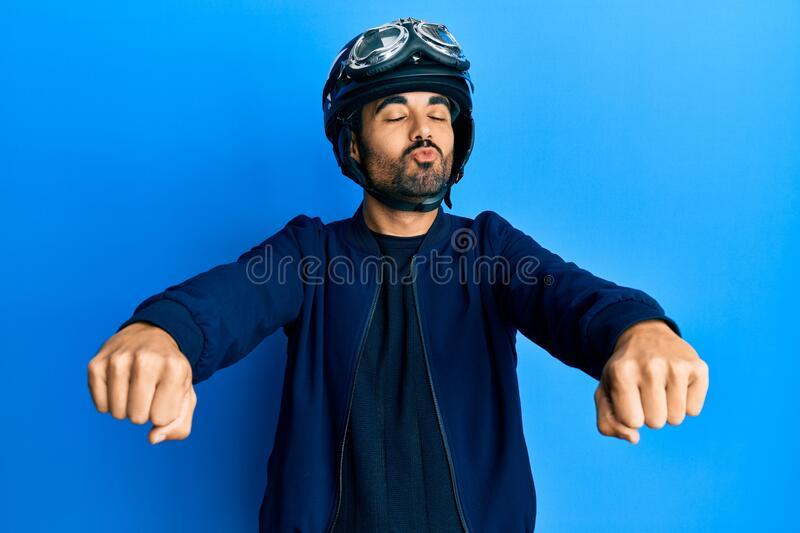helmet: (297, 19, 569, 283)
